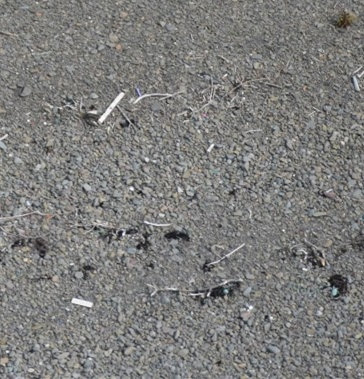straight_bar: (93, 87, 129, 128)
white_in_green: (55, 275, 110, 328)
